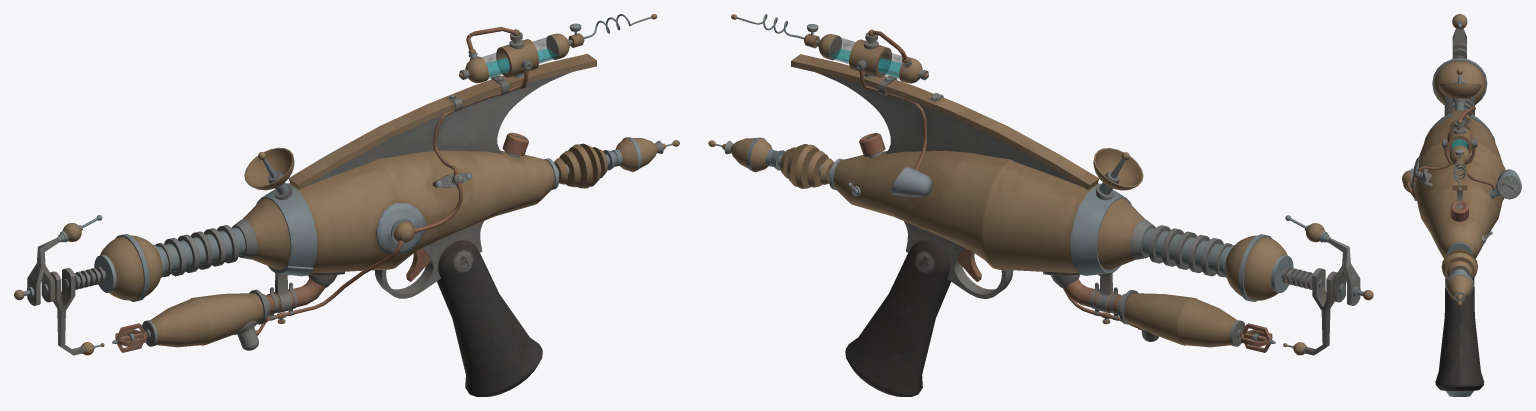
The model's file is fucci_mk2.glb.
3 views of the same model, side by side, from view 1: azimuth 30°, elevation 25°; view 2: azimuth 150°, elevation 25°; view 3: azimuth 270°, elevation 25° (orthographic). The views are drawn at different scales.
Visible parts, largest first — view 1: defaultMaterial (×2); view 2: defaultMaterial (×2); view 3: defaultMaterial (×2).
Part boxes in pixels (bbox=[...]): defaultMaterial (×2): bbox=[14, 14, 679, 396]; defaultMaterial (×2): bbox=[708, 14, 1373, 396]; defaultMaterial (×2): bbox=[1402, 14, 1521, 396].
Bounding box in the file's own units: 2 × 1.03 × 0.3915.
2 materials, 2 textured.
